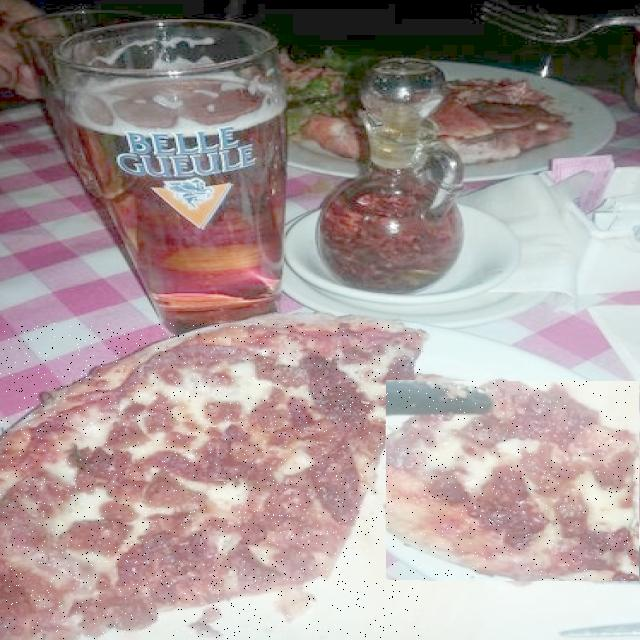Pizza: (0, 324, 422, 639), (387, 382, 638, 580)
